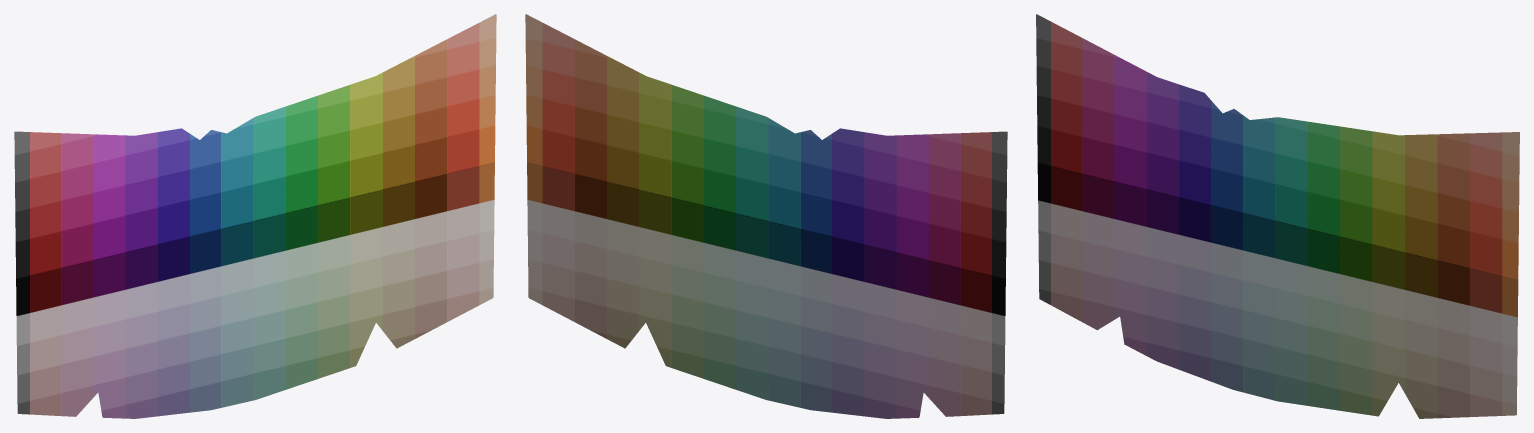
File: Hanging Cloth 01.FBX
3 renders of one model, left to right at view 1: azimuth 30°, elevation 25°; view 2: azimuth 150°, elevation 25°; view 3: azimuth 330°, elevation 25°, orthographic.
Parts seen in each view (by area): view 1: Hanging Cloth 01; view 2: Hanging Cloth 01; view 3: Hanging Cloth 01.
Part boxes in pixels (box(x1,y1,x2,y2)): Hanging Cloth 01: box(14, 14, 496, 418); Hanging Cloth 01: box(525, 14, 1007, 418); Hanging Cloth 01: box(1036, 14, 1519, 418).
Bounding box in the file's own units: 218 × 141 × 0.4217.
